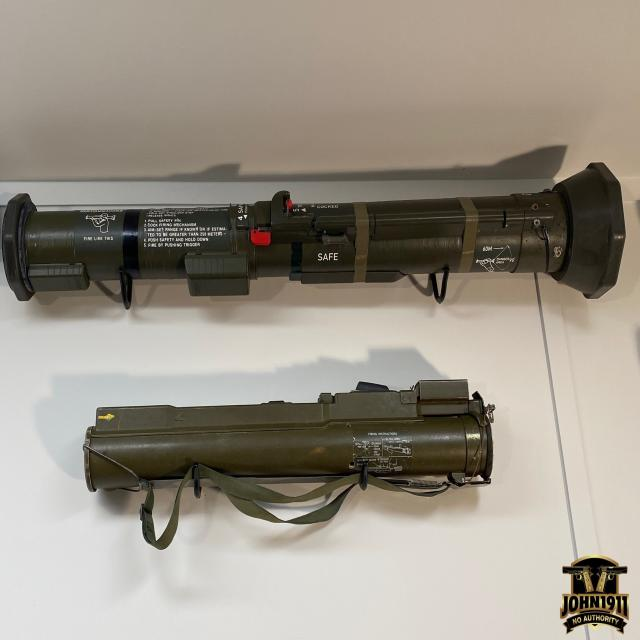bazooka: (6, 152, 640, 556)
